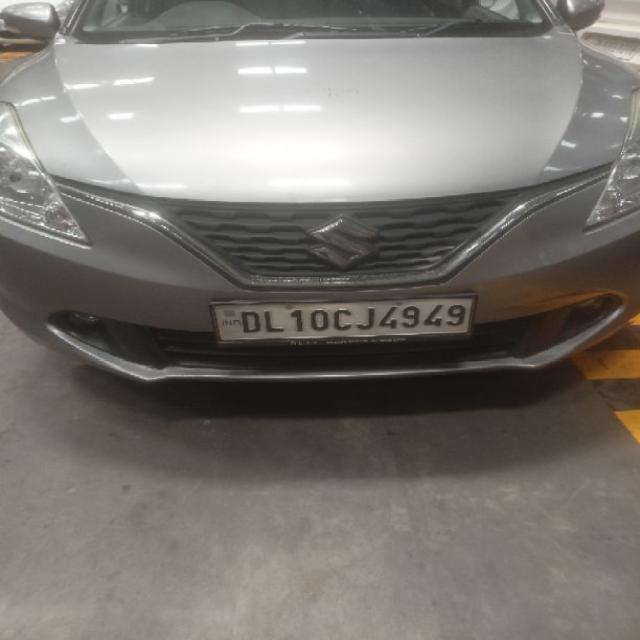license_plate: (208, 293, 477, 346)
